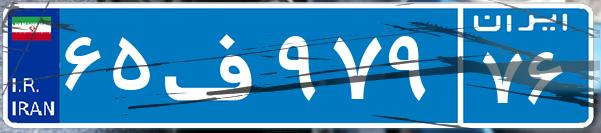5: (110, 28, 158, 105)
6: (57, 26, 110, 107), (525, 38, 570, 115)
7: (330, 28, 385, 110), (475, 38, 525, 113)
9: (385, 28, 445, 110), (273, 28, 330, 110)
ف: (158, 15, 273, 115)
